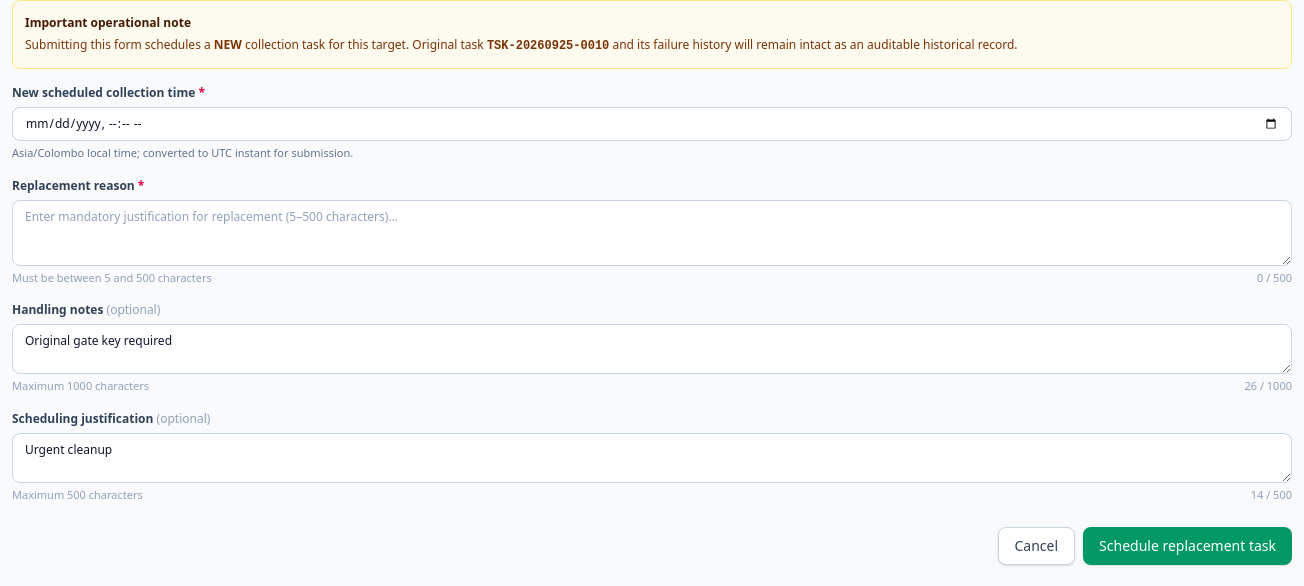
Scenario: ReplacementTaskForm › validates scheduled date must be provided and in the future
# Submit with empty date
Click the button "Schedule replacement task" at [1188, 546], box top-left (1083, 527), bottom-right (1292, 565)
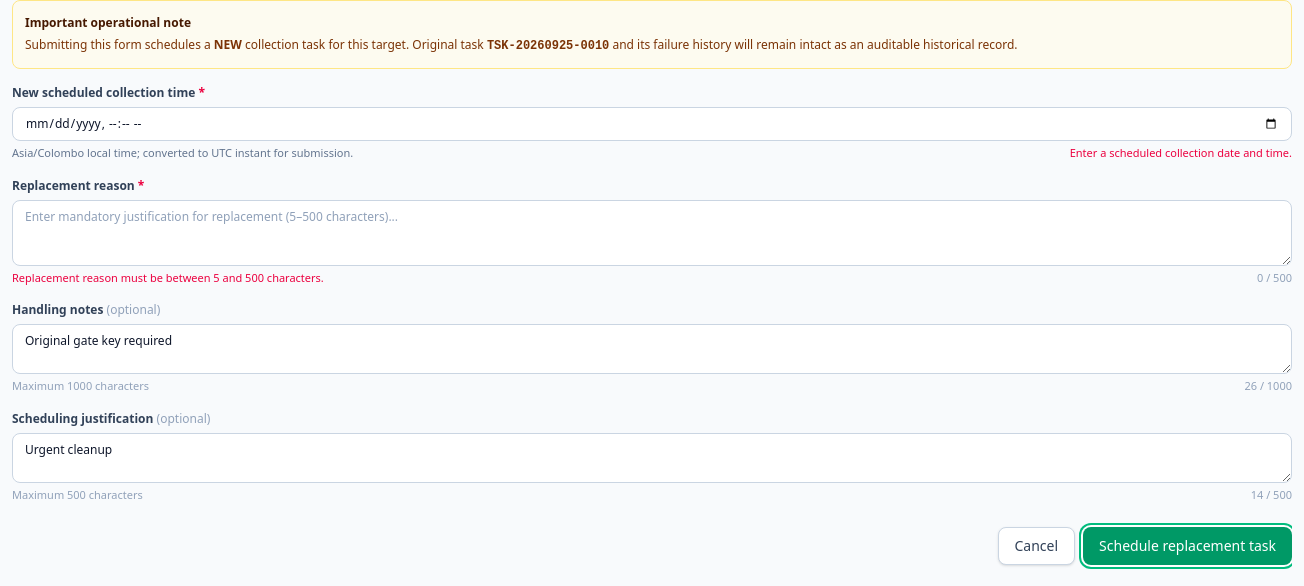
expect the text "Enter a scheduled collection date and time." is shown: met, box top-left (1070, 145), bottom-right (1292, 162)
# Type a past date
Type "2020-01-01T10:00" into the field labelled "New scheduled collection time *" at [652, 124], box top-left (12, 107), bottom-right (1292, 141)
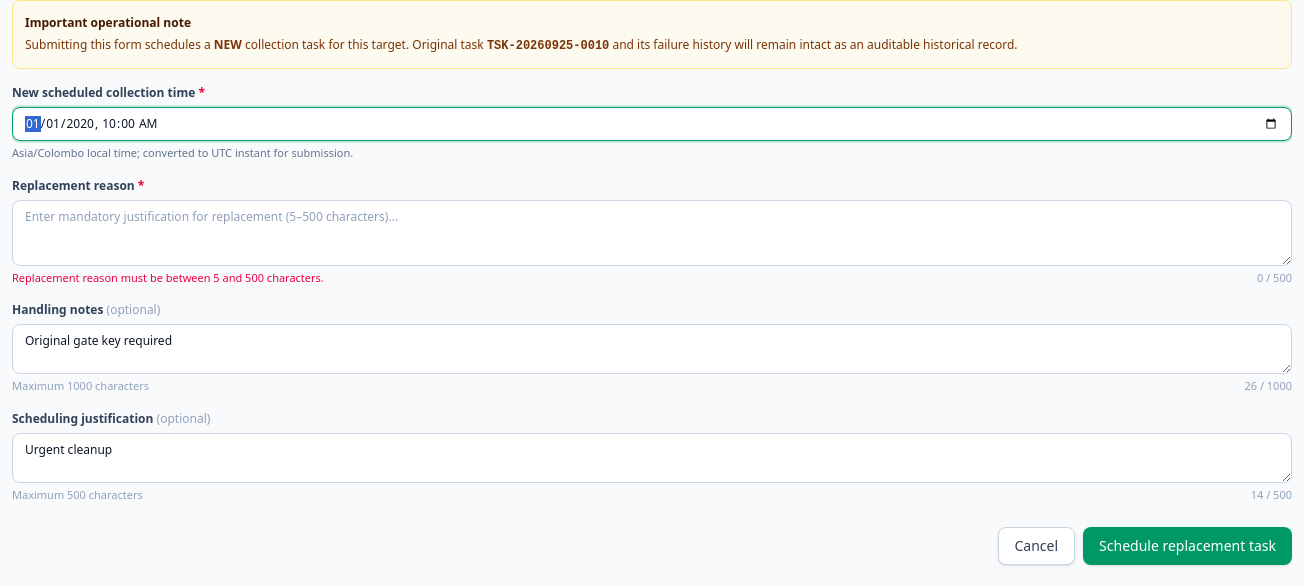
Click the button "Schedule replacement task" at [1188, 546], box top-left (1083, 527), bottom-right (1292, 565)
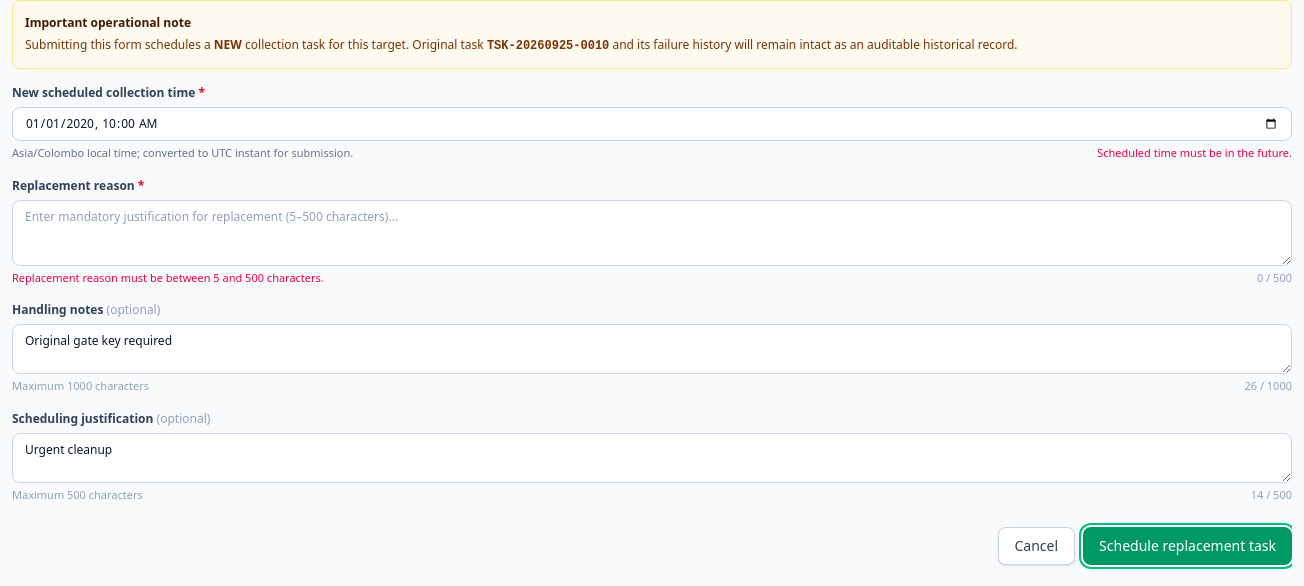
expect the text "Scheduled time must be in the future." is shown: met, box top-left (1097, 145), bottom-right (1292, 162)
